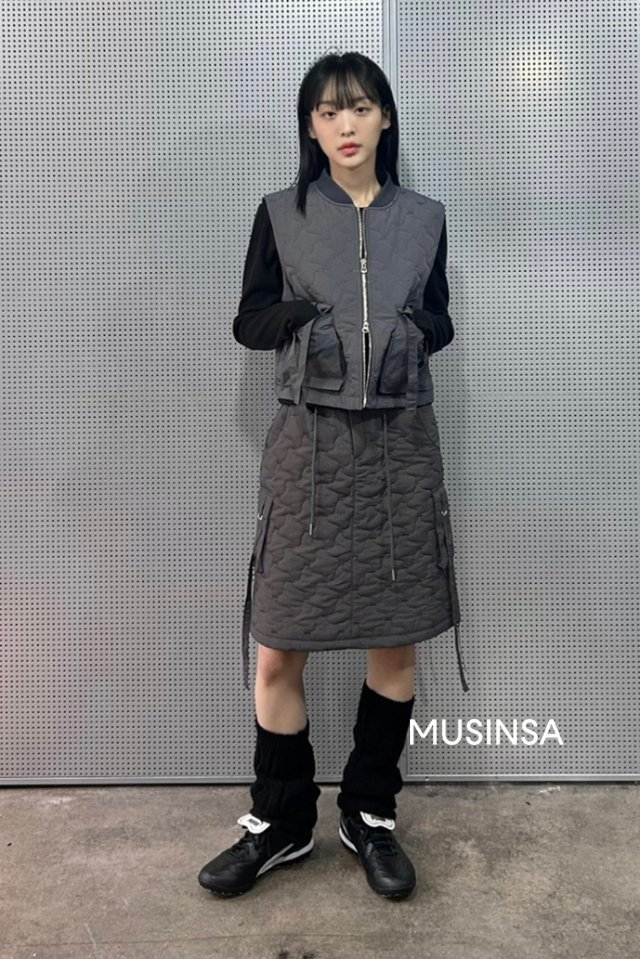Shoes: (197, 813, 426, 910)
Skirt: (245, 398, 475, 670)
Vest: (257, 175, 445, 413)
